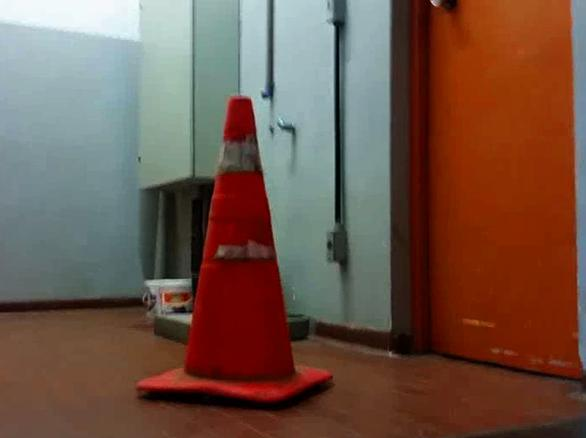0 cone: (136, 96, 334, 403)
